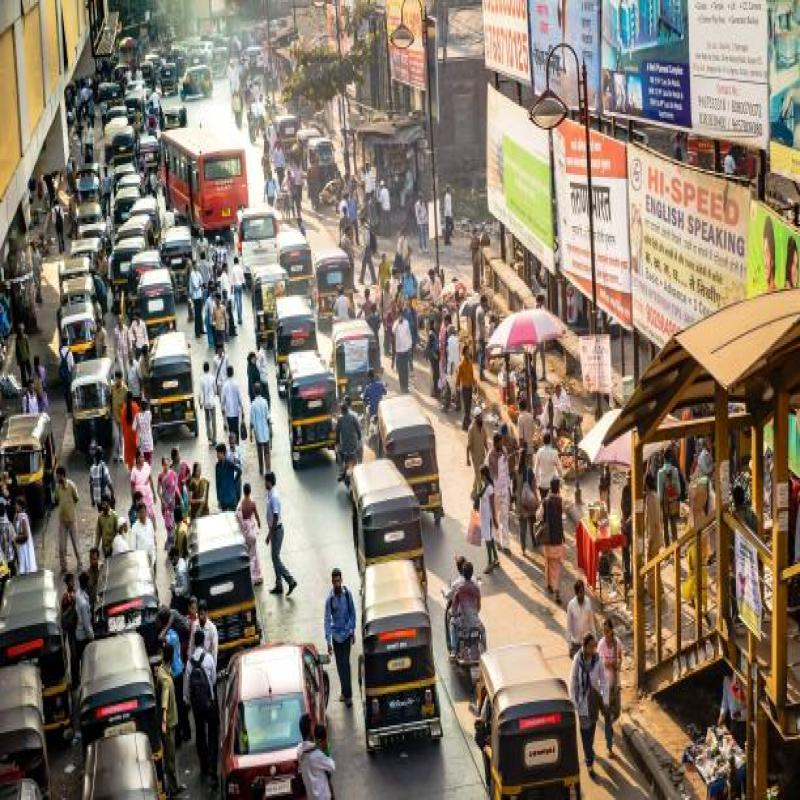auto: (463, 637, 578, 800), (357, 561, 448, 758), (345, 456, 430, 570), (374, 391, 452, 512), (283, 344, 344, 470), (327, 315, 386, 395)
bus: (157, 112, 254, 230)
car: (228, 637, 336, 800)
